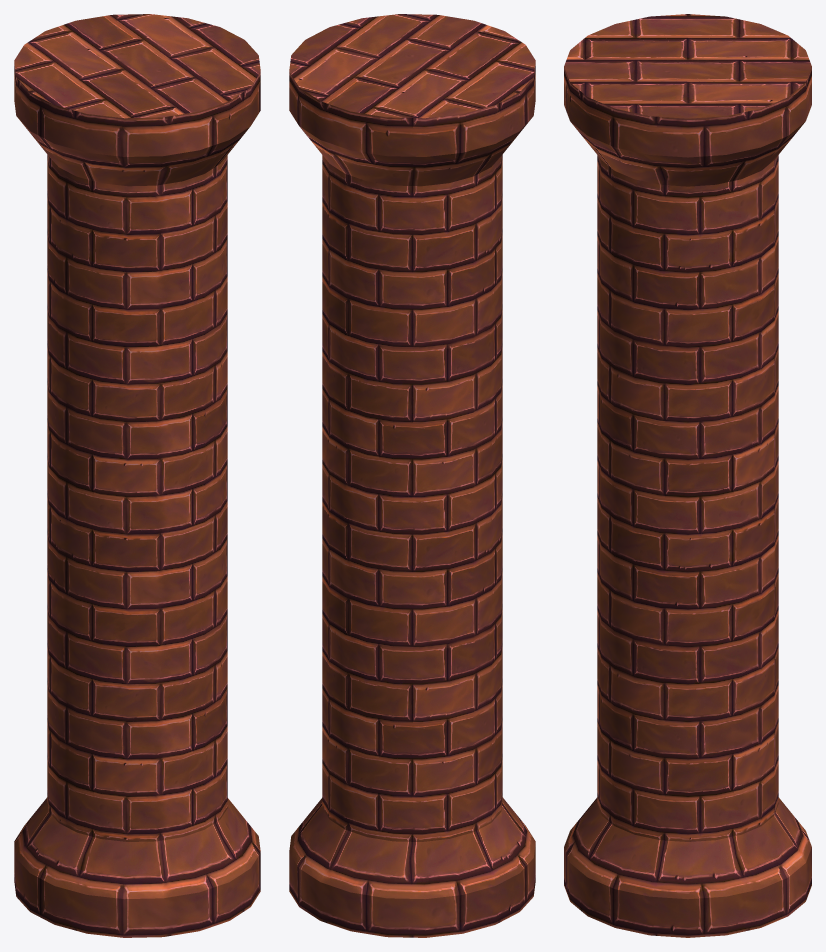
File: SM_Pillar.fbx
3 views of the same model, side by side, from view 1: azimuth 30°, elevation 25°; view 2: azimuth 150°, elevation 25°; view 3: azimuth 270°, elevation 25° (orthographic).
Visible parts, largest first — view 1: pCylinder8; view 2: pCylinder8; view 3: pCylinder8.
Part boxes in pixels (x1=…): pCylinder8: x1=14, y1=14, x2=260, y2=937; pCylinder8: x1=289, y1=14, x2=535, y2=937; pCylinder8: x1=564, y1=14, x2=811, y2=937.
Bounding box in the file's own units: 95.01 × 347 × 95.01.
